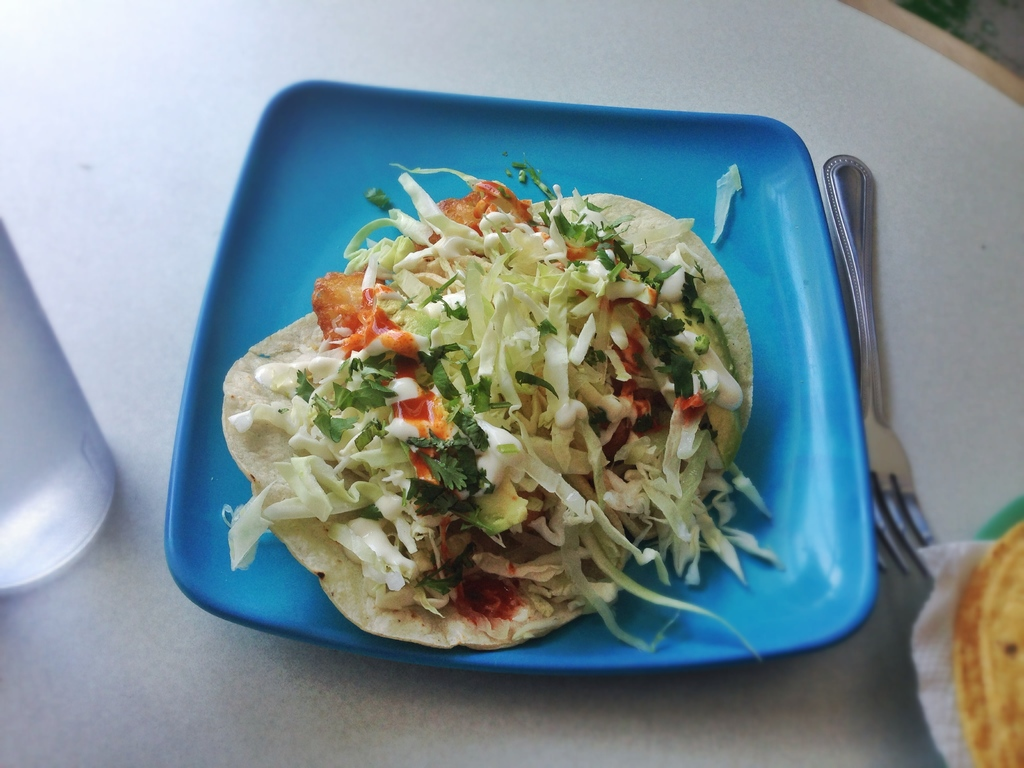taco: (246, 179, 785, 654)
